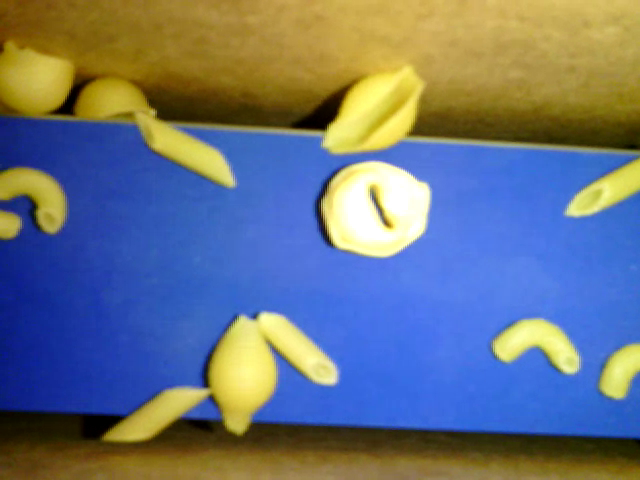elbow: (491, 318, 581, 373), (1, 167, 69, 233), (597, 342, 639, 398), (1, 208, 23, 238)
penne: (134, 112, 234, 186), (257, 310, 337, 386), (103, 387, 209, 441), (563, 157, 639, 219)
shell: (321, 66, 425, 155), (207, 314, 275, 434), (1, 41, 75, 114), (73, 76, 156, 119)
tortellini: (319, 161, 430, 258)
